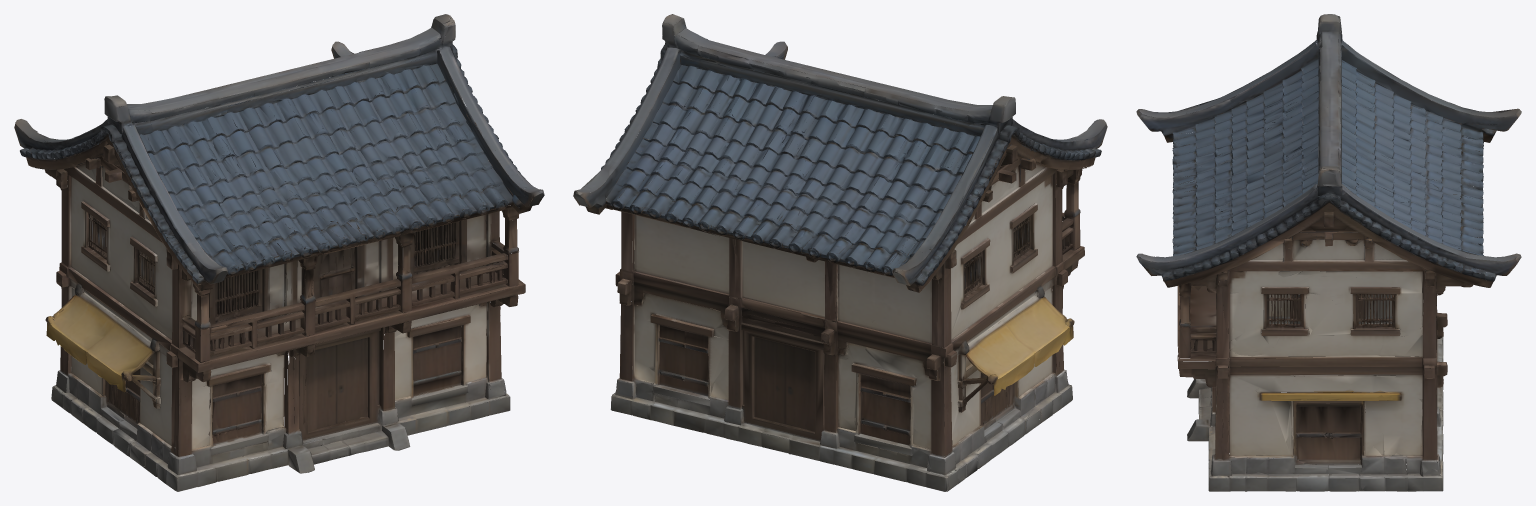
Rendered from warehouse-a.glb.
3 views of the same model, side by side, from view 1: azimuth 30°, elevation 25°; view 2: azimuth 150°, elevation 25°; view 3: azimuth 270°, elevation 25° (orthographic). The views are drawn at different scales.
Visible parts, largest first — view 1: node_0; view 2: node_0; view 3: node_0.
Part boxes in pixels (<box>): node_0: <box>14,14,544,491</box>; node_0: <box>573,14,1107,491</box>; node_0: <box>1136,14,1521,491</box>.
Size of the model in its own units: 8.01 by 7.26 by 7.77.
Materials: 1 (1 with a texture image).
